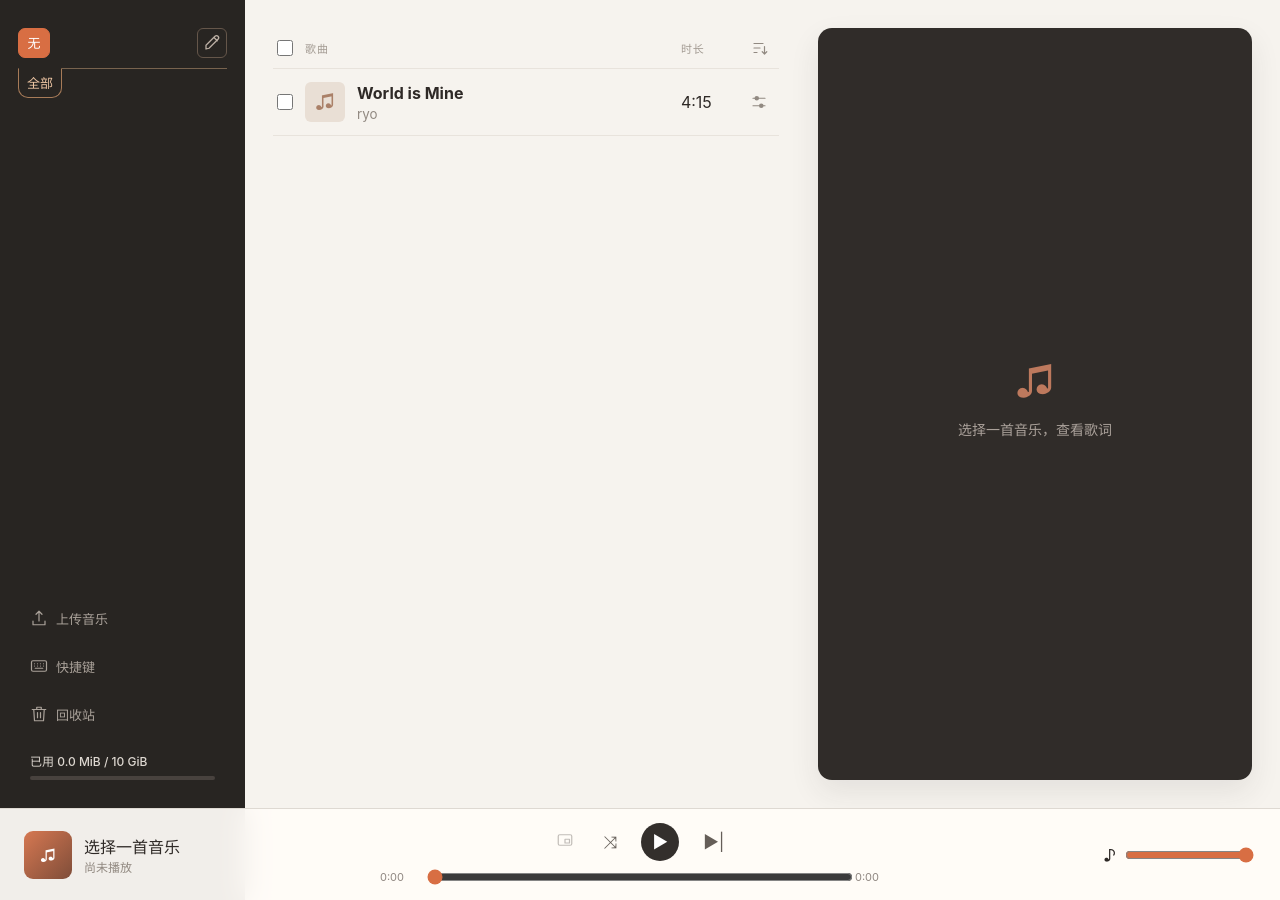
Scenario: music library lifecycle › keeps checkbox and settings interactions separate from row playback
Click the checkbox named "选择 World is Mine": (285, 102) [277,94,293,110]
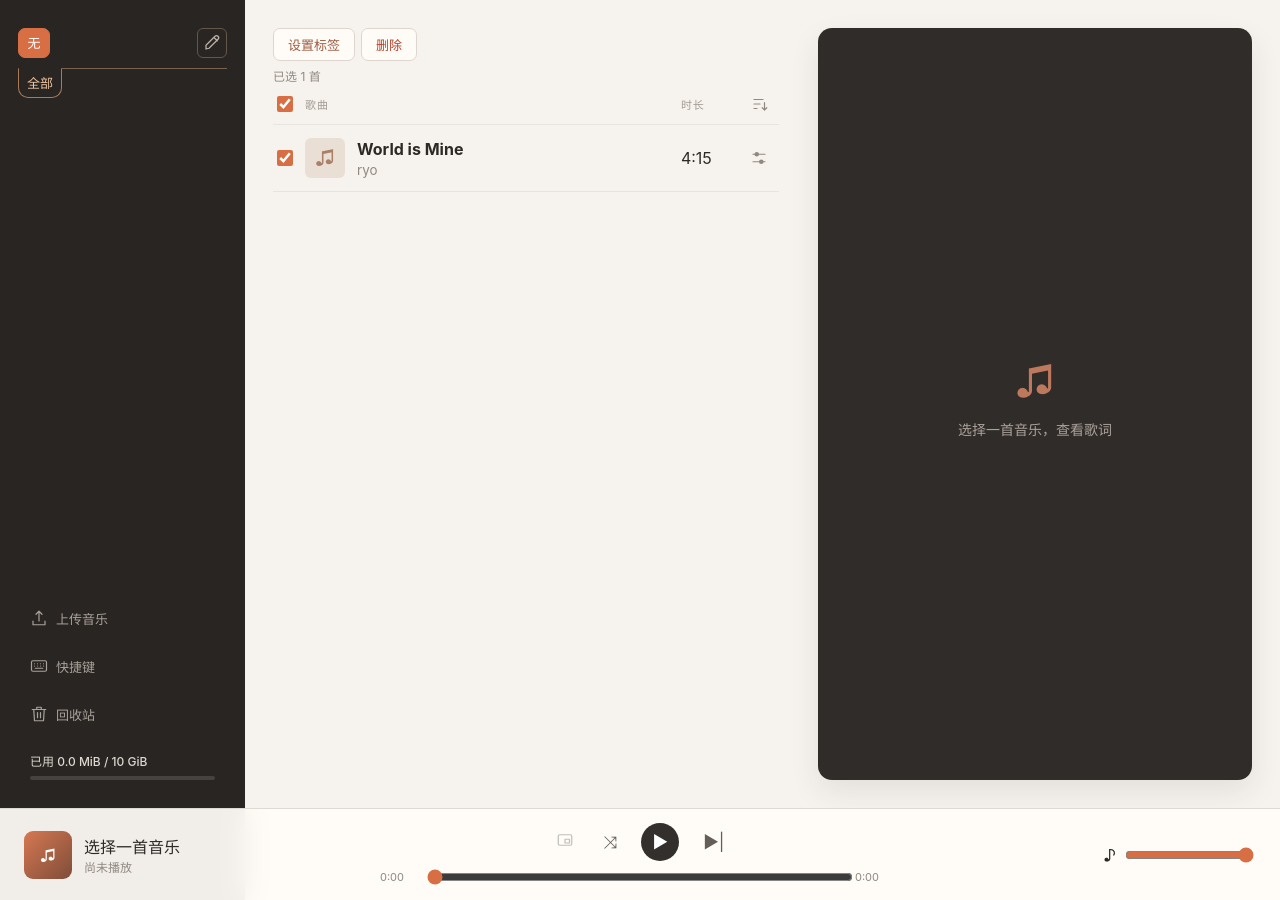
Press Space in the checkbox named "选择 World is Mine", box [277,150,293,166]
Click the button named "设置 World is Mine": (759, 158) [743,142,775,174]
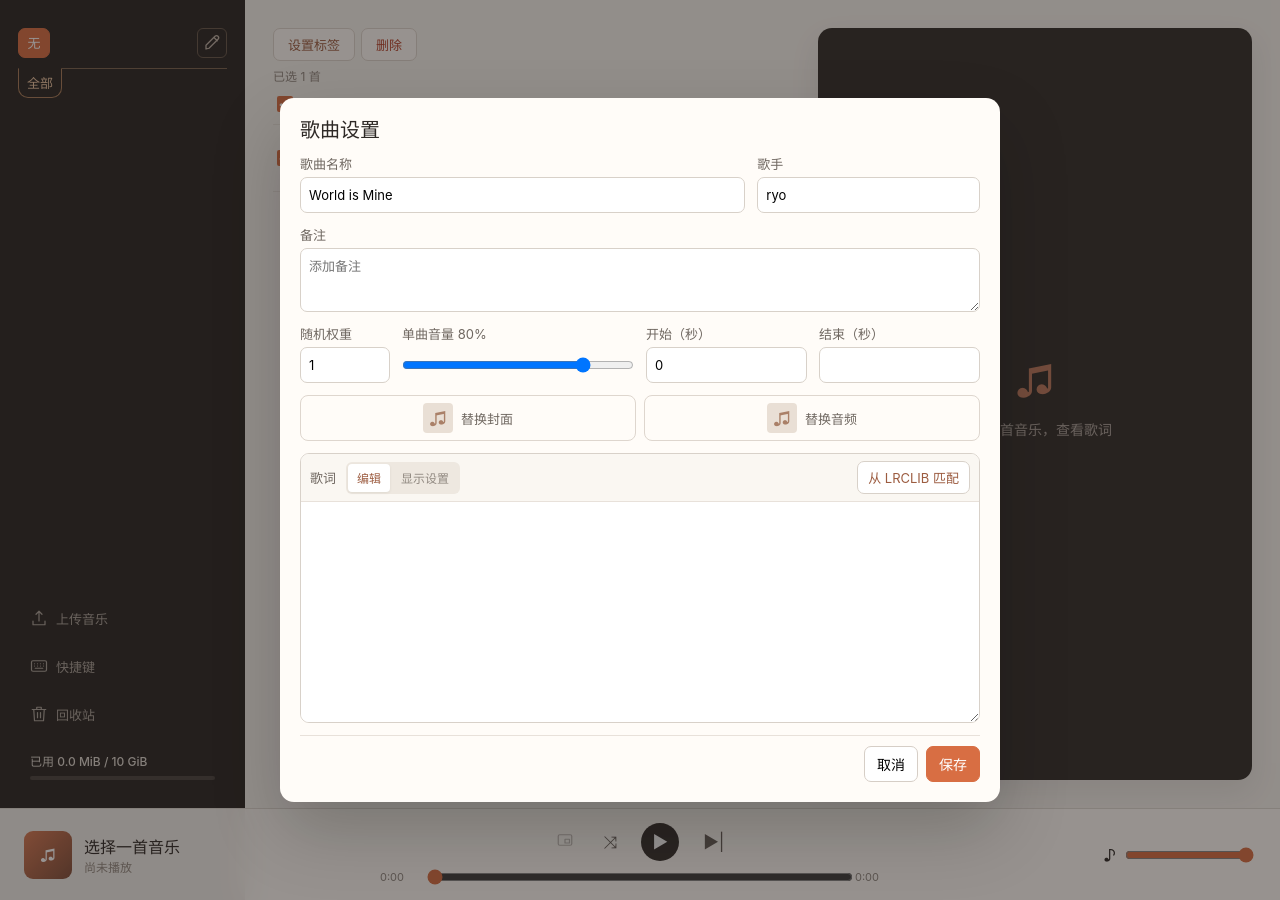
Expected: the dialog "歌曲设置" is shown, [280,98,1000,802]
